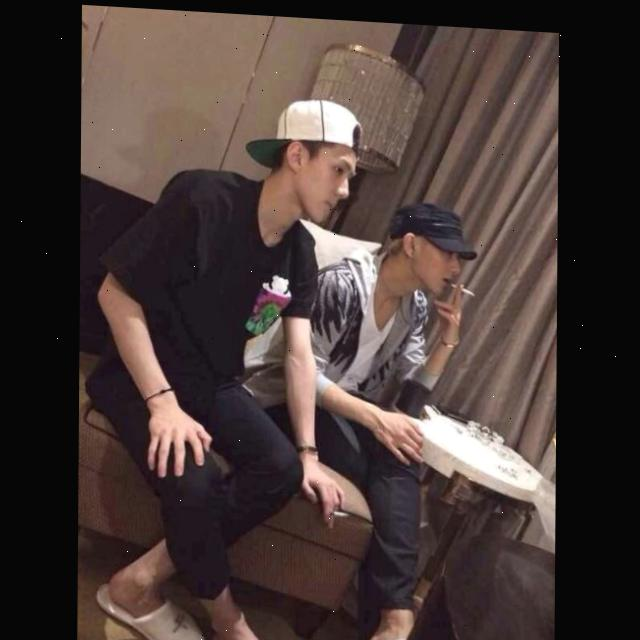cigarette: (450, 277, 475, 291), (330, 507, 350, 513)
